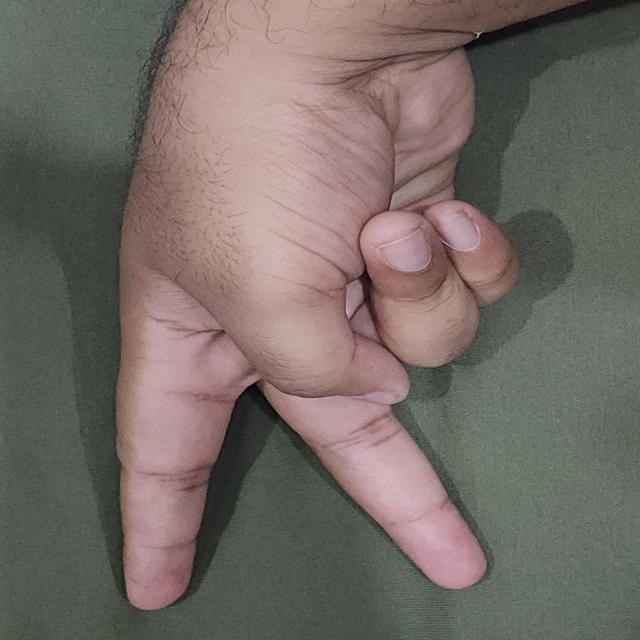ا: (85, 1, 575, 617)
